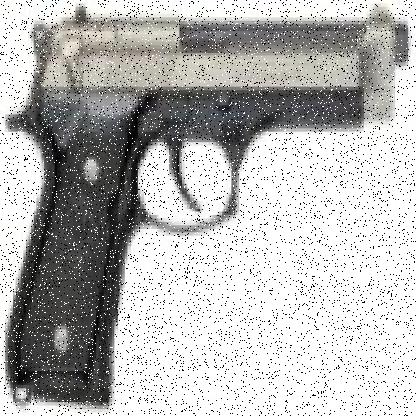pistol: (3, 7, 401, 402)
